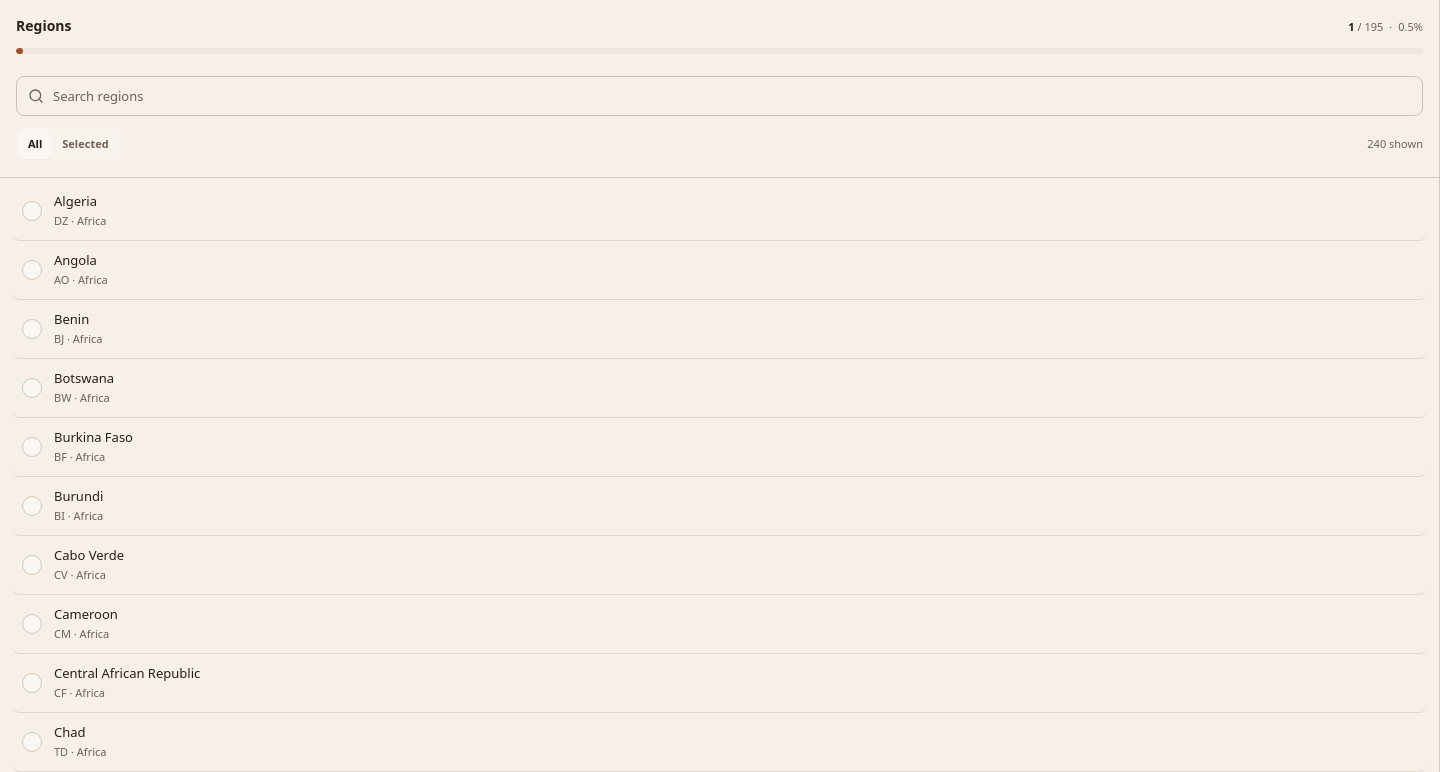
it: empty region results explain themselves › distinguishes a query that fails inside the Selected view
Click the button "selected" at (85, 144), box [52,130,119,158]
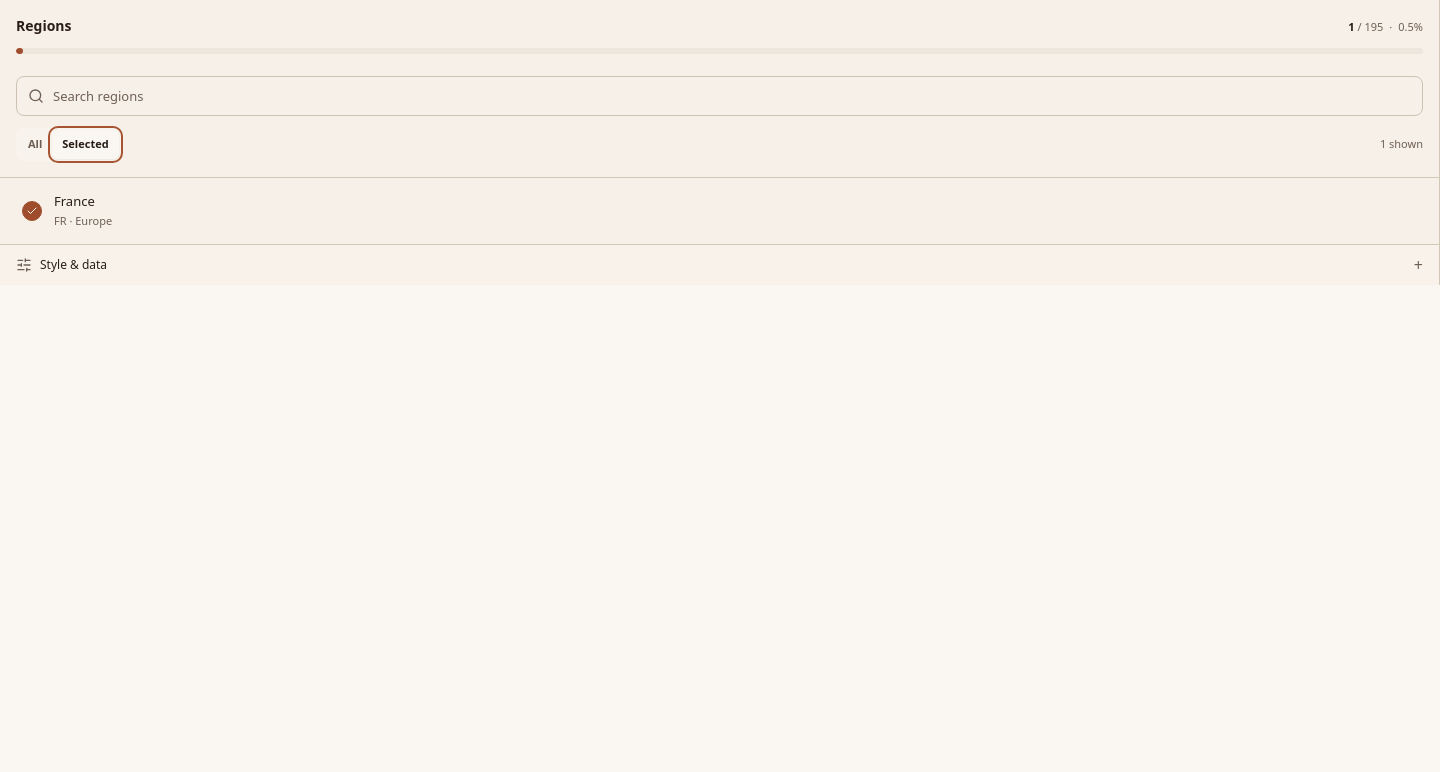
Type "spain" into the search field at (720, 96), box [16,76,1423,116]
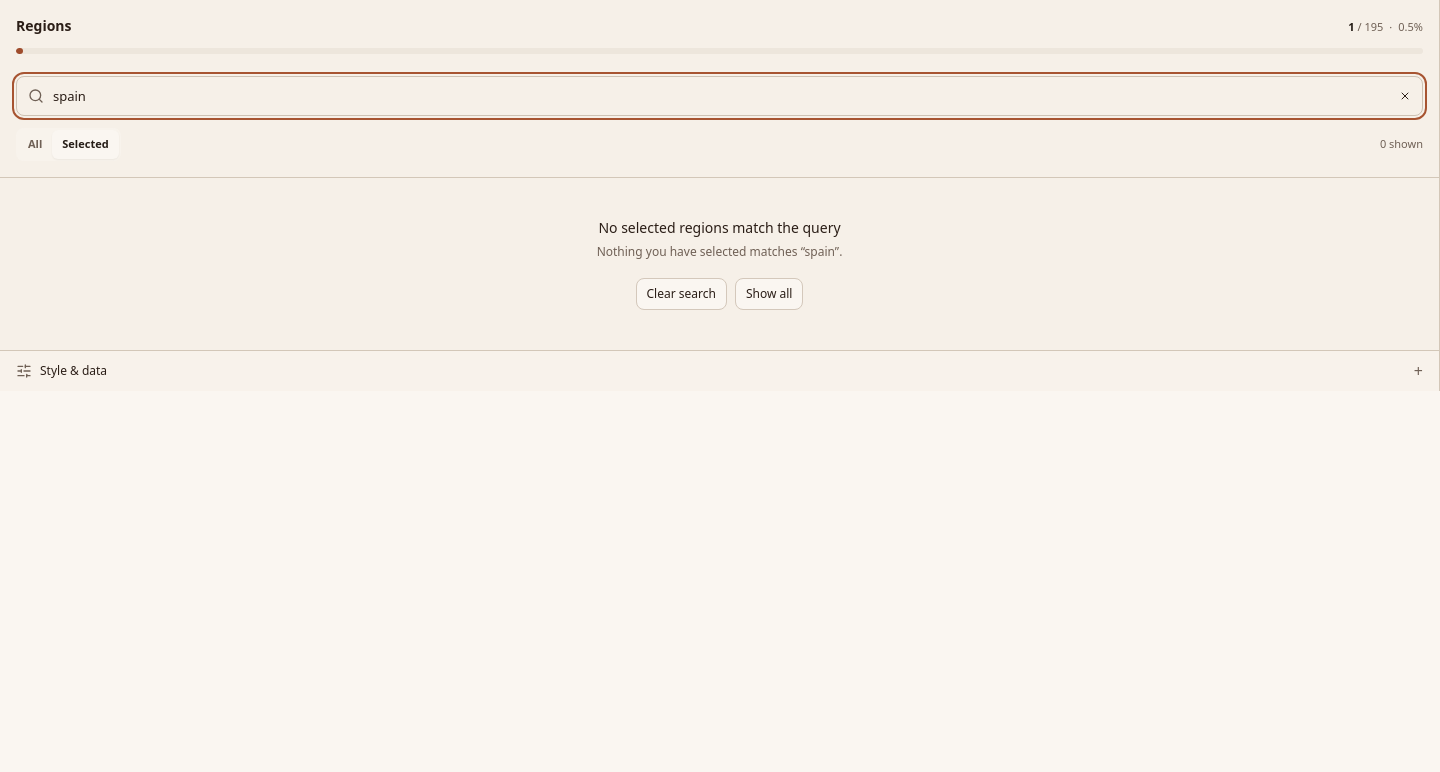
Result: the text "No selected regions match the query" is shown at [598,218,841,236]
Result: the button "Clear search" is shown at [636,278,727,310]
Result: the button "Show all" is shown at [735,278,803,310]
